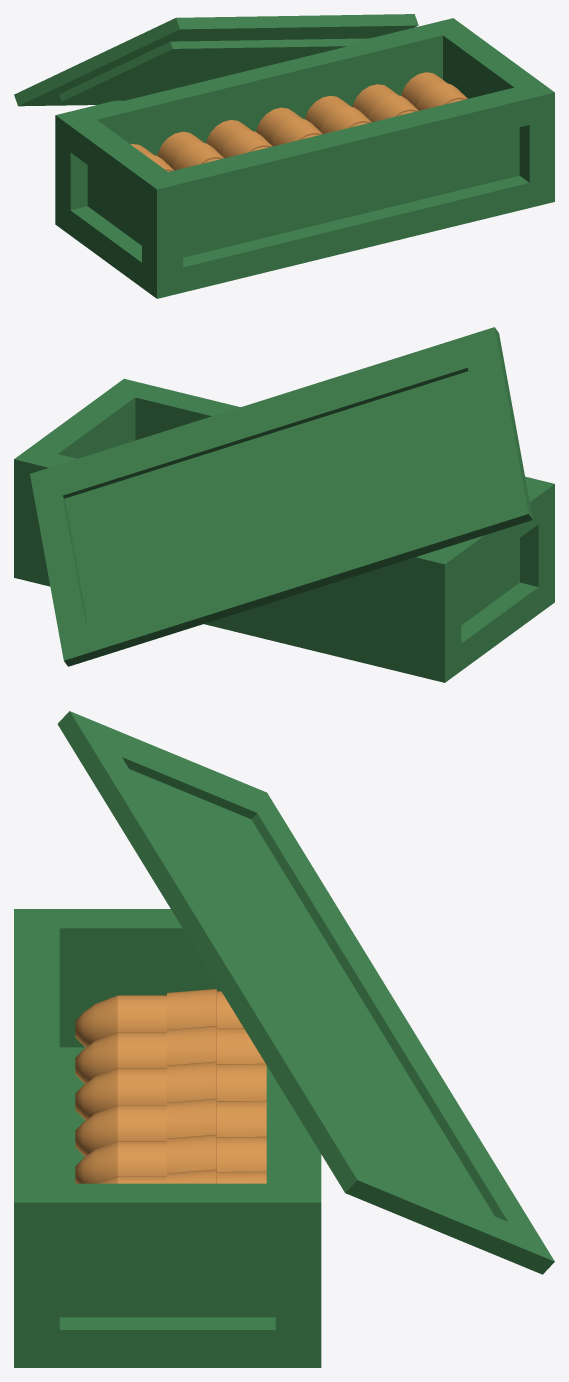
The model's file is ProjectileBox.FBX.
3 renders of one model, top to bottom at view 1: azimuth 30°, elevation 25°; view 2: azimuth 150°, elevation 25°; view 3: azimuth 270°, elevation 25°, orthographic. The views are drawn at different scales.
Parts seen in each view (by area): view 1: Box01, Box03, Cylinder01; view 2: Box03, Box01; view 3: Box01, Box03, Cylinder01.
Boxes of the visible parts, x1,y1,x2,y2 form: Box01: [55, 18, 554, 298]; Box03: [14, 14, 418, 106]; Cylinder01: [131, 72, 467, 171]; Box03: [30, 327, 532, 666]; Box01: [14, 379, 554, 682]; Box01: [14, 909, 321, 1367]; Box03: [57, 711, 554, 1274]; Cylinder01: [75, 989, 266, 1183].
Bounding box in the file's own units: 173 × 117 × 93.62.
